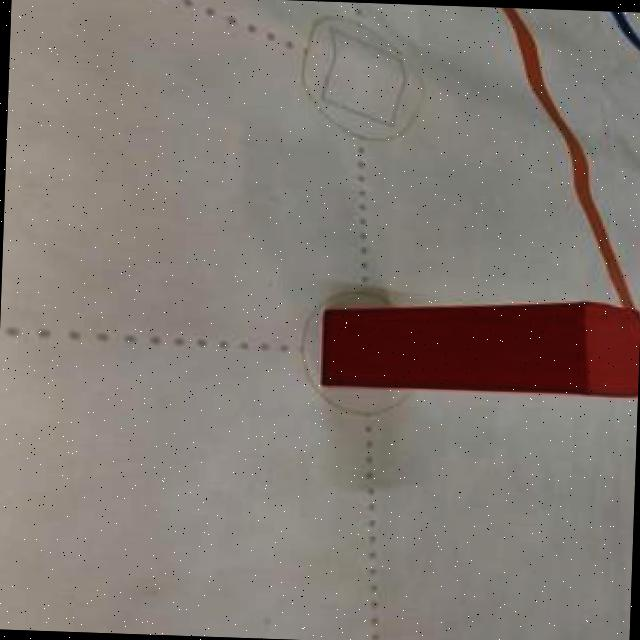redbox: (319, 291, 640, 398)
